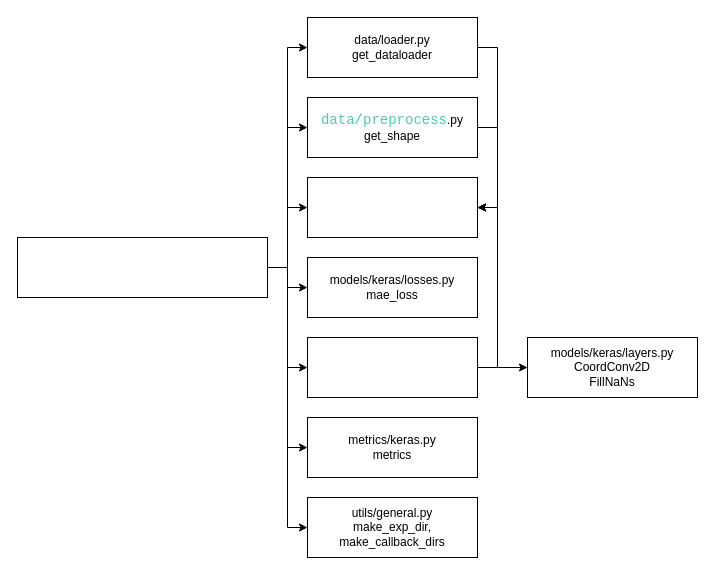
The diagram is 715 pixels wide and 575 high, and some of its shapes have lost their labels. The shapes that lost their labels are listed below. From the top down, each one's centre as x and y in pixels, then its label:
At (392,207): "data/constants.py ALL_VARIABLES CHANNEL_MIN_MAX".
At (142,267): "train_tornado_keras.py scripts/tornado_detection/config/params.json".
At (392,367): "models/keras/cnn_baseline.py build_model".
